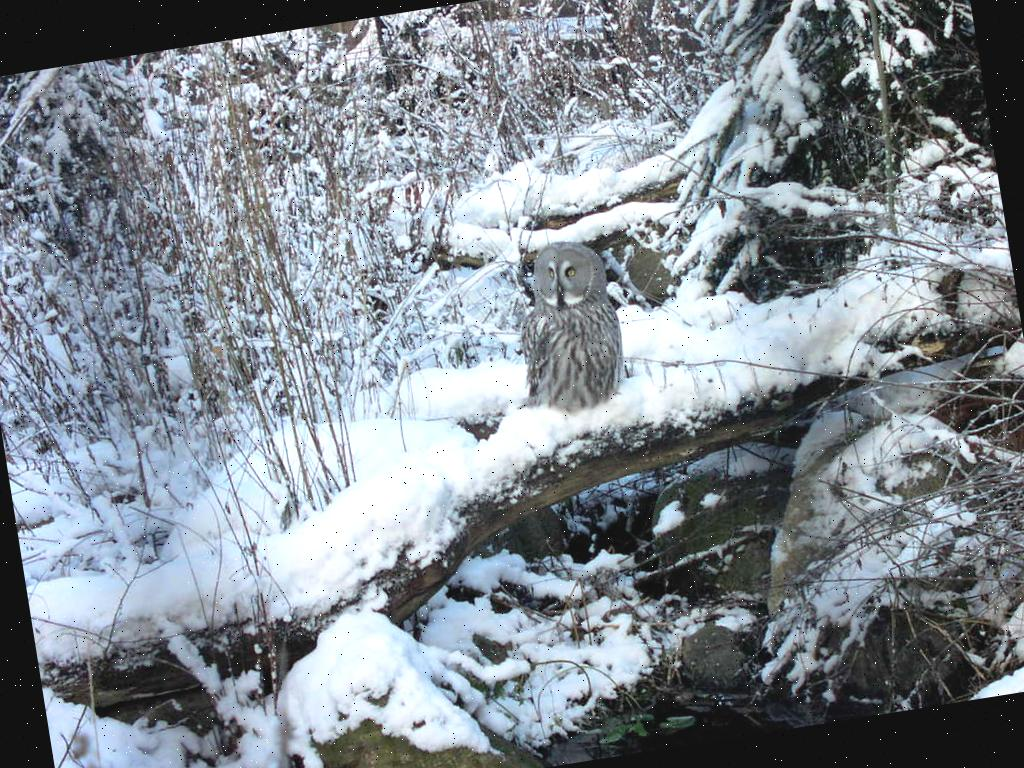Owl: (506, 237, 630, 416)
